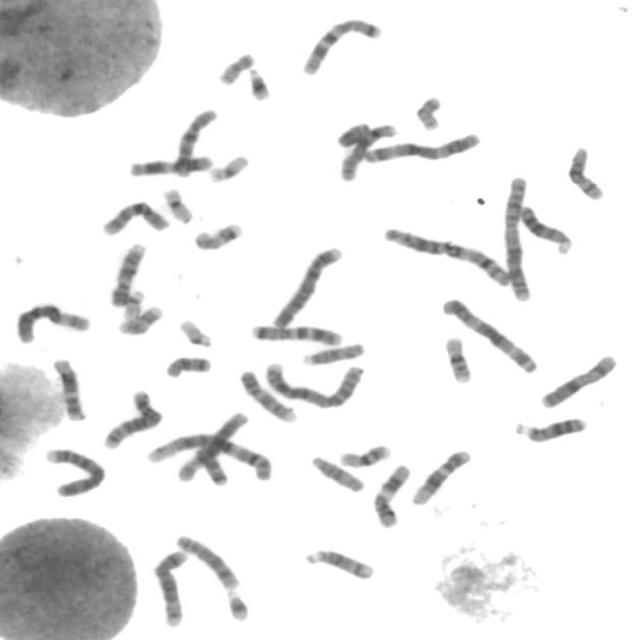A1: (376, 221, 515, 287), (140, 428, 278, 482)
A2: (257, 355, 366, 410), (497, 169, 534, 302)
A3: (435, 292, 540, 375), (357, 127, 482, 164)
B4: (266, 240, 344, 330), (38, 441, 108, 499)
B5: (96, 384, 164, 451), (147, 544, 191, 628)
C10: (168, 103, 220, 178), (94, 196, 170, 237)
C11: (367, 458, 411, 528), (122, 150, 214, 178)
C12: (406, 444, 474, 507), (47, 353, 87, 422)
C6: (172, 406, 251, 484), (9, 297, 93, 345)
C7: (295, 12, 385, 76), (245, 318, 344, 346)
C8: (170, 530, 242, 590), (333, 119, 398, 182)
C9: (234, 364, 298, 424), (104, 237, 148, 308)
D13: (512, 199, 574, 255), (508, 412, 588, 443)
D14: (299, 544, 376, 581), (561, 141, 606, 202)
D15: (304, 450, 366, 494), (296, 336, 366, 367)
E16: (438, 331, 474, 384), (333, 439, 393, 469)
E17: (187, 218, 245, 252), (112, 300, 164, 336)
E18: (158, 350, 214, 379), (196, 448, 231, 488)
F19: (202, 149, 251, 184), (156, 183, 195, 225)
F20: (212, 47, 257, 86), (409, 90, 445, 132)
G21: (219, 584, 252, 622), (242, 62, 272, 102)
G22: (173, 314, 214, 348), (116, 285, 146, 321)
X: (533, 349, 620, 410)
Y: (331, 117, 372, 149)
